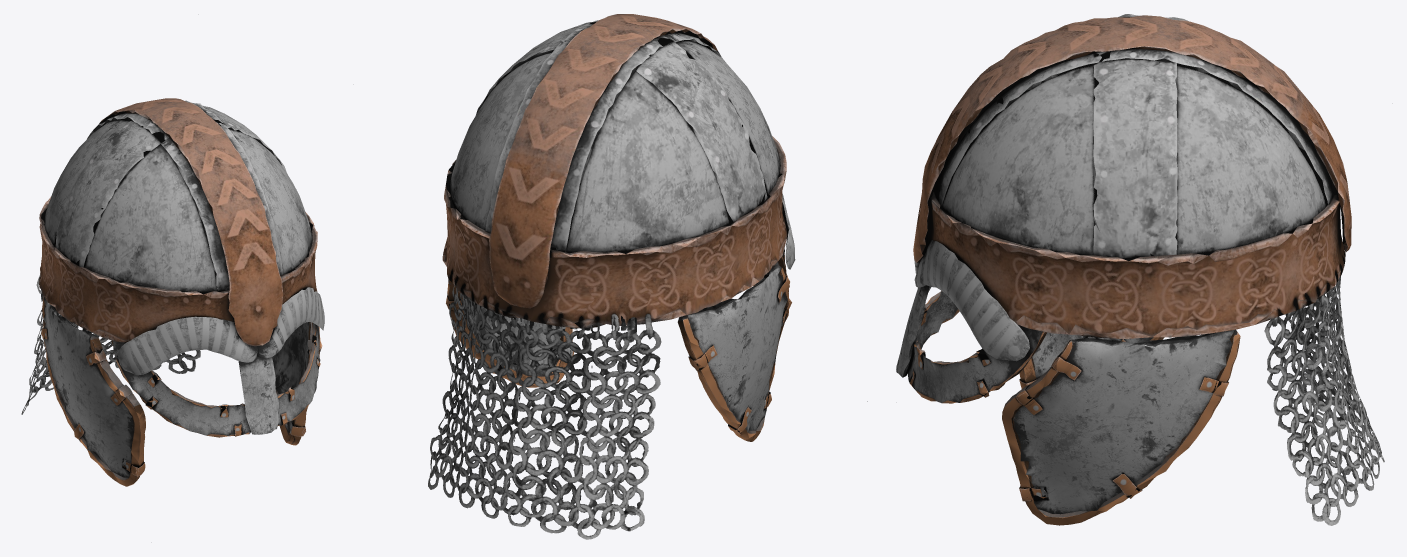
Rendered from Helm_LOD2.dae.
3 renders of one model, left to right at view 1: azimuth 30°, elevation 25°; view 2: azimuth 150°, elevation 25°; view 3: azimuth 270°, elevation 25°, orthographic. The views are drawn at different scales.
Visible parts, largest first — view 1: Helm_LOD2; view 2: Helm_LOD2; view 3: Helm_LOD2.
Part boxes in pixels (x1,y1,x2,y2): Helm_LOD2: (21,98,324,486); Helm_LOD2: (428,14,867,539); Helm_LOD2: (896,14,1384,525).
Size of the model in its own units: 0.2341 by 0.3234 by 0.3239.
Materials: 4 (4 with a texture image).
